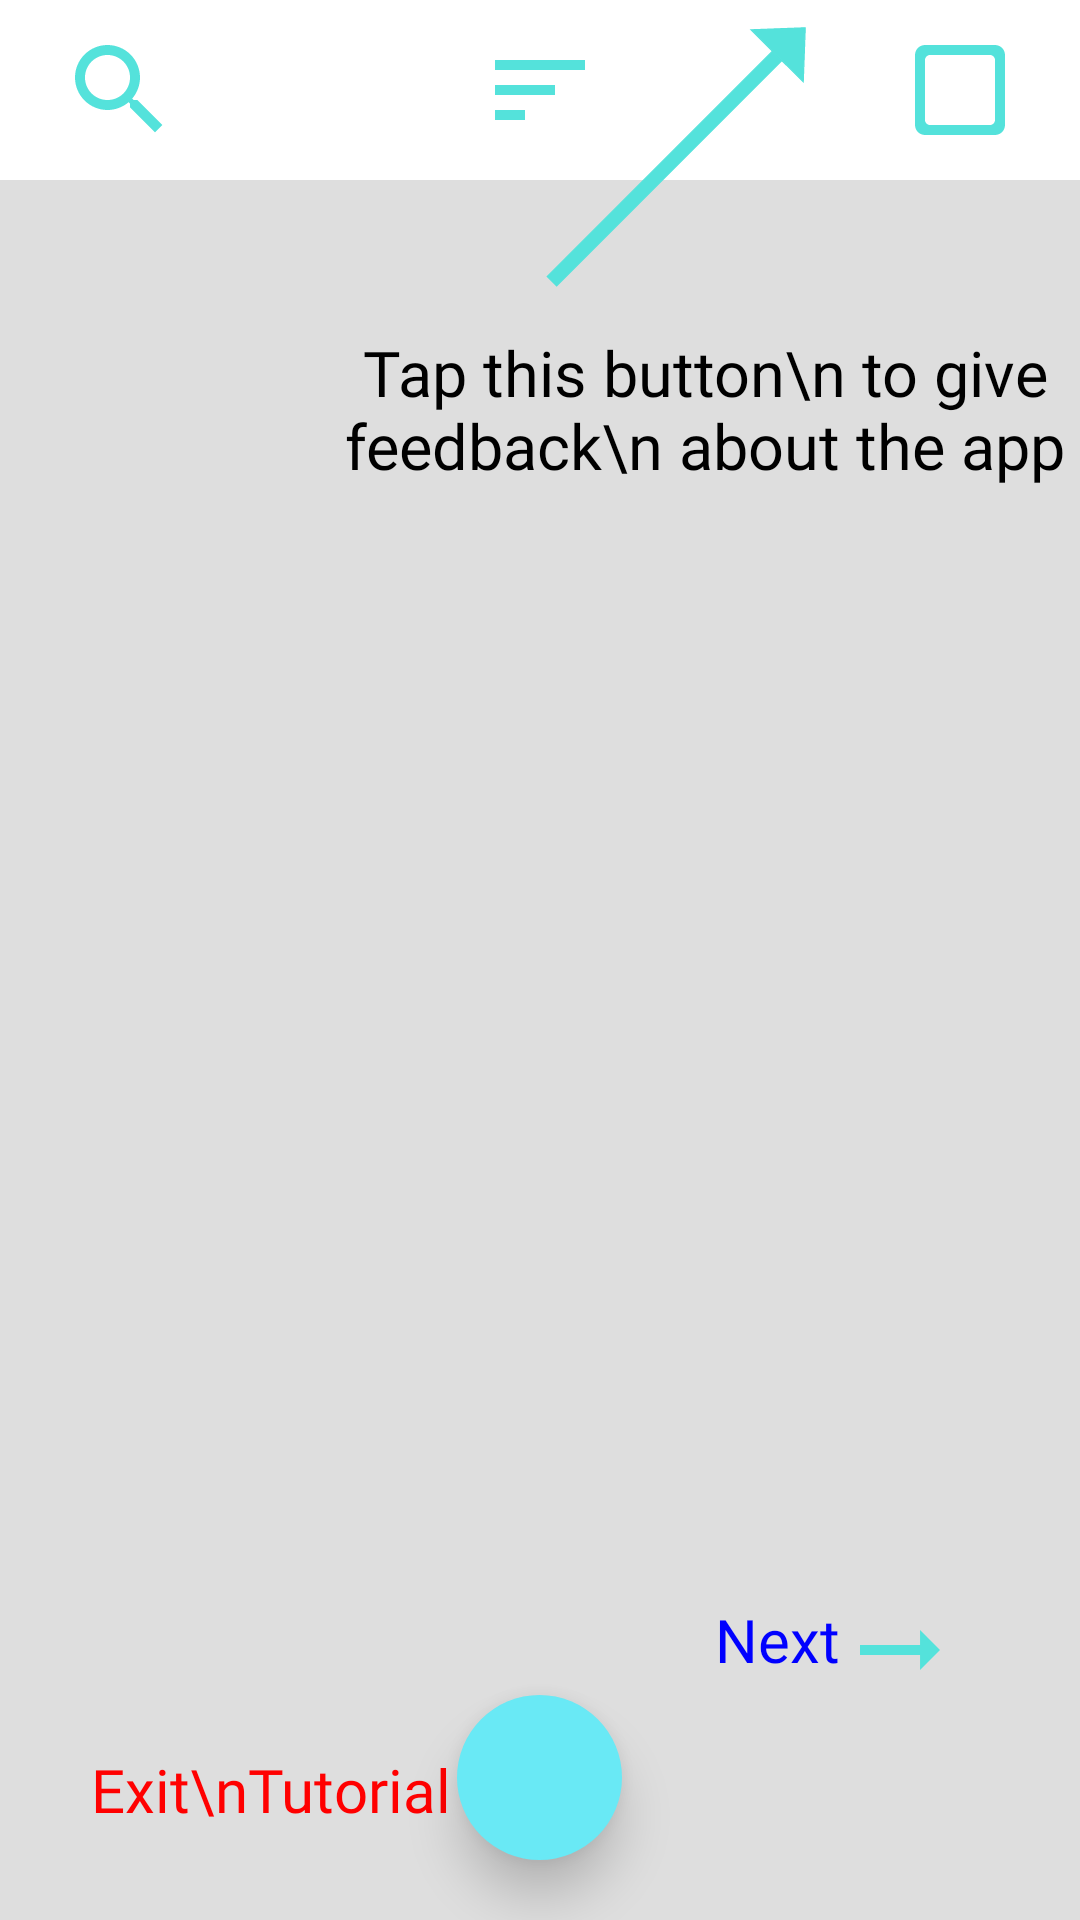

Where icons sit on this 1080px x 1920px app screen, as (x1, y1, x2, y2):
arrow right: (860, 1630, 940, 1670)
check box blank: (915, 45, 1005, 135)
search: (75, 45, 162, 132)
sort: (495, 60, 585, 120)
